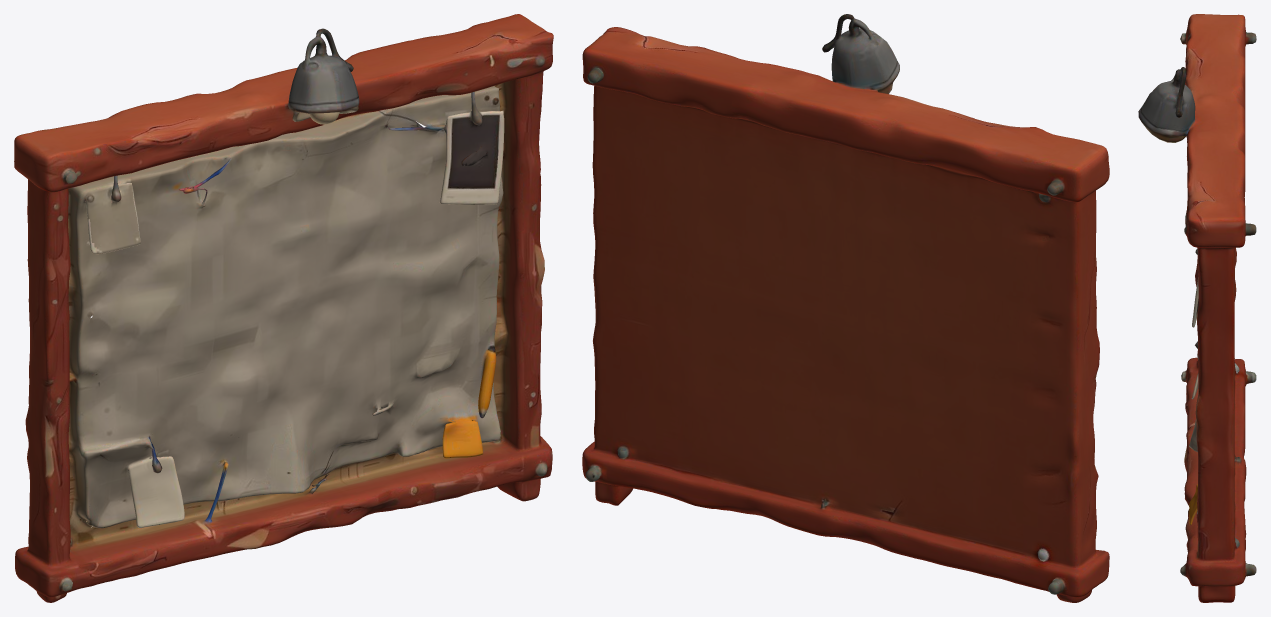
The model's file is g67_route_board.glb.
3 views of the same model, side by side, from view 1: azimuth 30°, elevation 25°; view 2: azimuth 150°, elevation 25°; view 3: azimuth 270°, elevation 25° (orthographic). The views are drawn at different scales.
Visible parts, largest first — view 1: tripo_node_b75281b4; view 2: tripo_node_b75281b4; view 3: tripo_node_b75281b4.
Boxes of the visible parts, box(x1,y1,x2,y2) form: tripo_node_b75281b4: box(14, 14, 553, 602); tripo_node_b75281b4: box(582, 14, 1109, 602); tripo_node_b75281b4: box(1138, 14, 1256, 602).
Bounding box in the file's own units: 97.89 × 96.77 × 23.31.
1 material, 1 textured.
